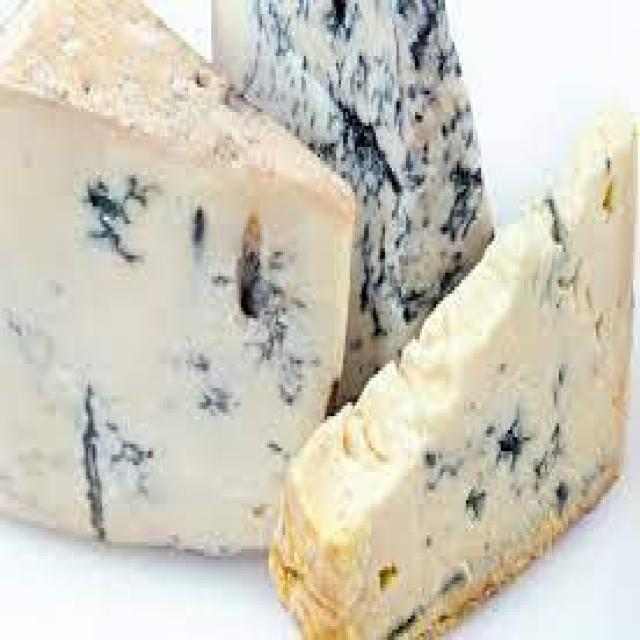Cheese: (3, 0, 352, 557), (275, 104, 639, 630), (192, 0, 536, 360)
